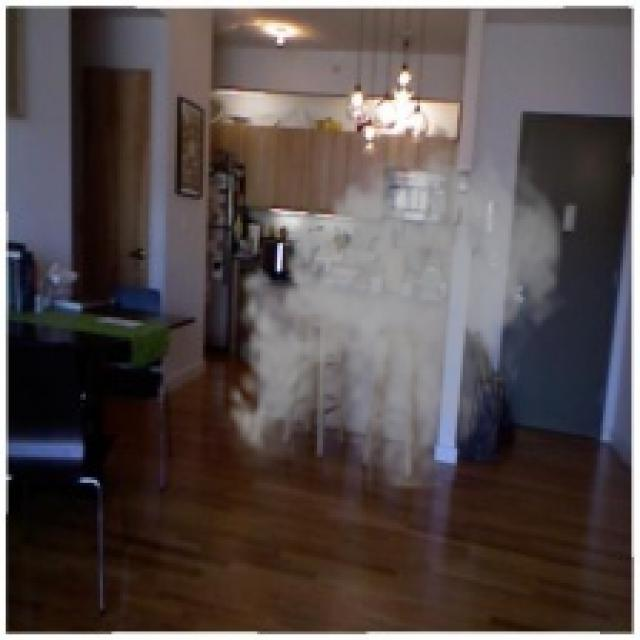smoke: (217, 134, 572, 492)
